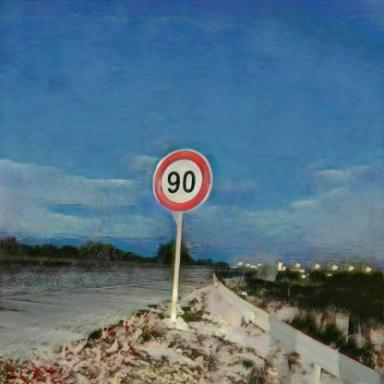Speed_limit_90: (154, 151, 210, 212)
